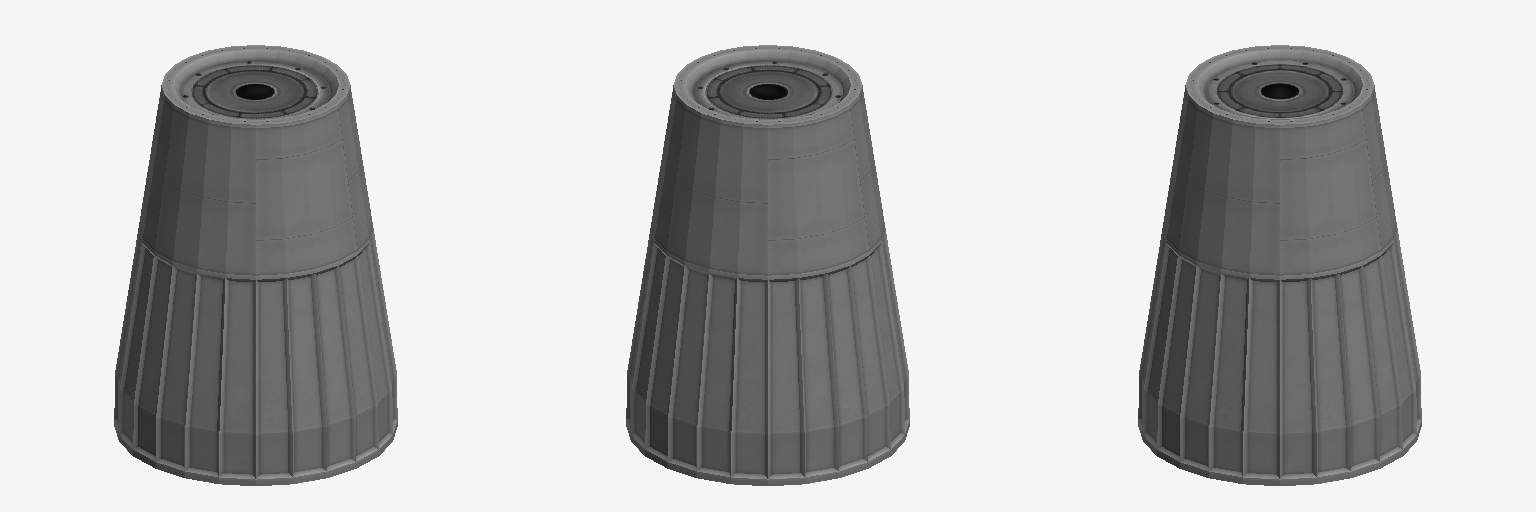
3 renders of one model, left to right at view 1: azimuth 30°, elevation 25°; view 2: azimuth 150°, elevation 25°; view 3: azimuth 270°, elevation 25°, orthographic.
Visible parts, largest first — view 1: Prince_Adapter_A; view 2: Prince_Adapter_A; view 3: Prince_Adapter_A.
Boxes of the visible parts, <box> form: Prince_Adapter_A: <box>114,45,397,485</box>; Prince_Adapter_A: <box>626,45,909,485</box>; Prince_Adapter_A: <box>1138,45,1421,485</box>.
Size of the model in its own units: 1.88 by 2.5 by 1.88.
Materials: 1 (1 with a texture image).